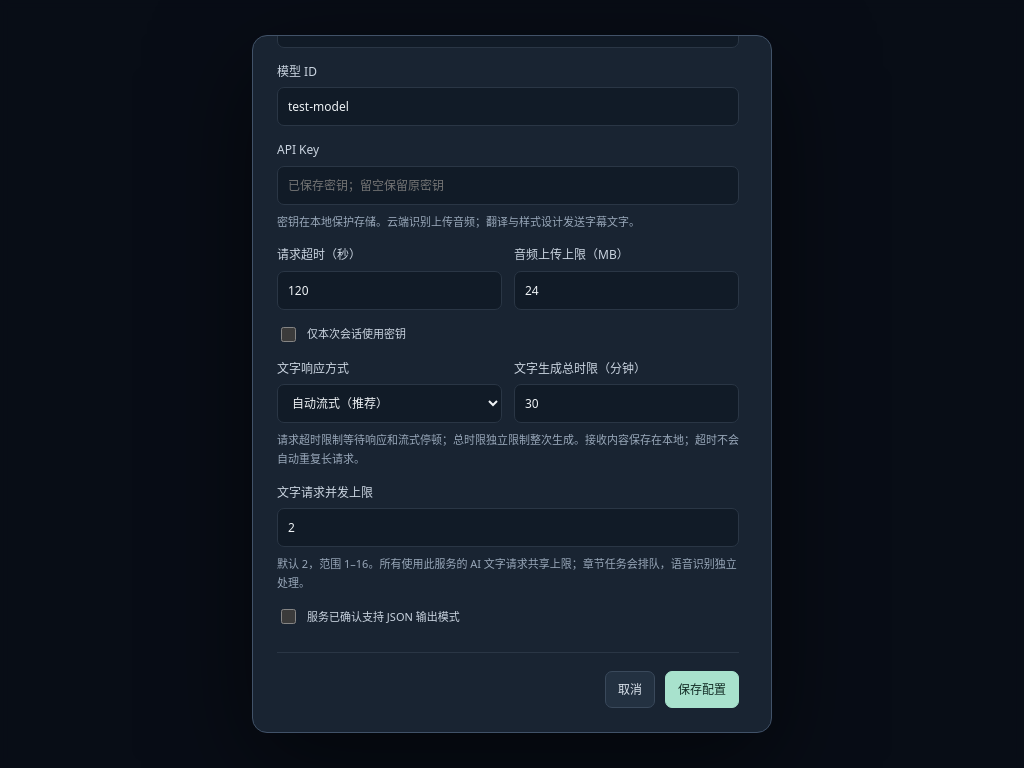
ProfileEditor configuration and credential behavior › rejects invalid service concurrency  before save
(page scrolled)
Clear the number field labelled "文字请求并发上限" at [508, 527], box [277, 508, 739, 547]
(page scrolled)
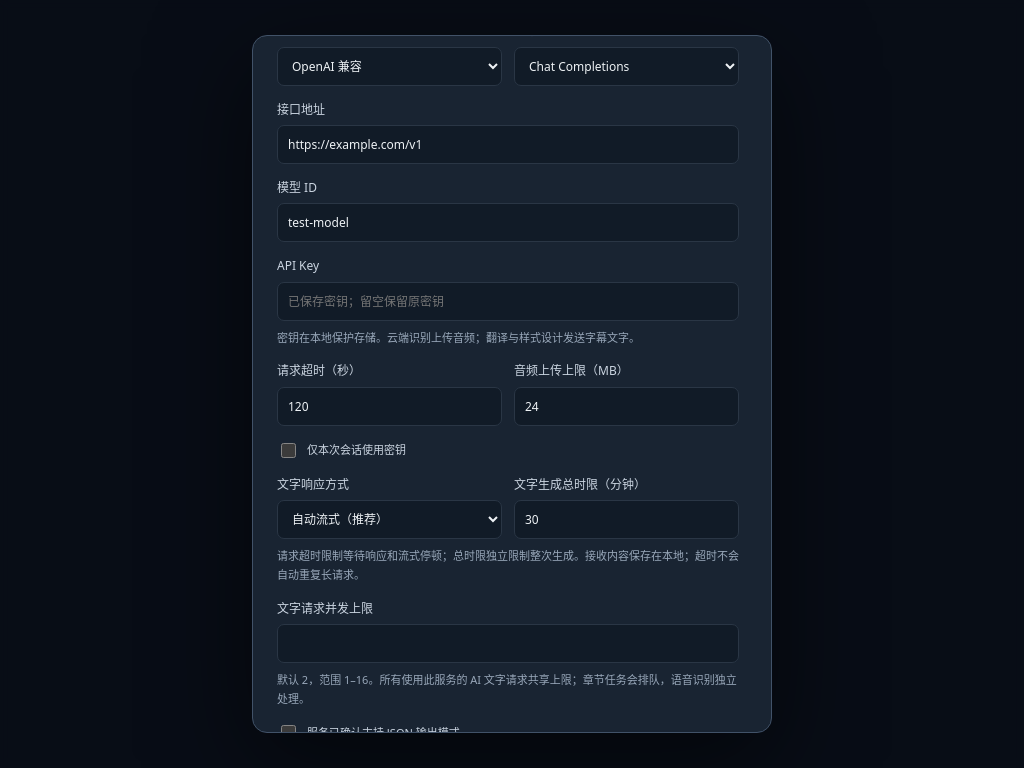
Submit the form named "保存配置"
(page scrolled)
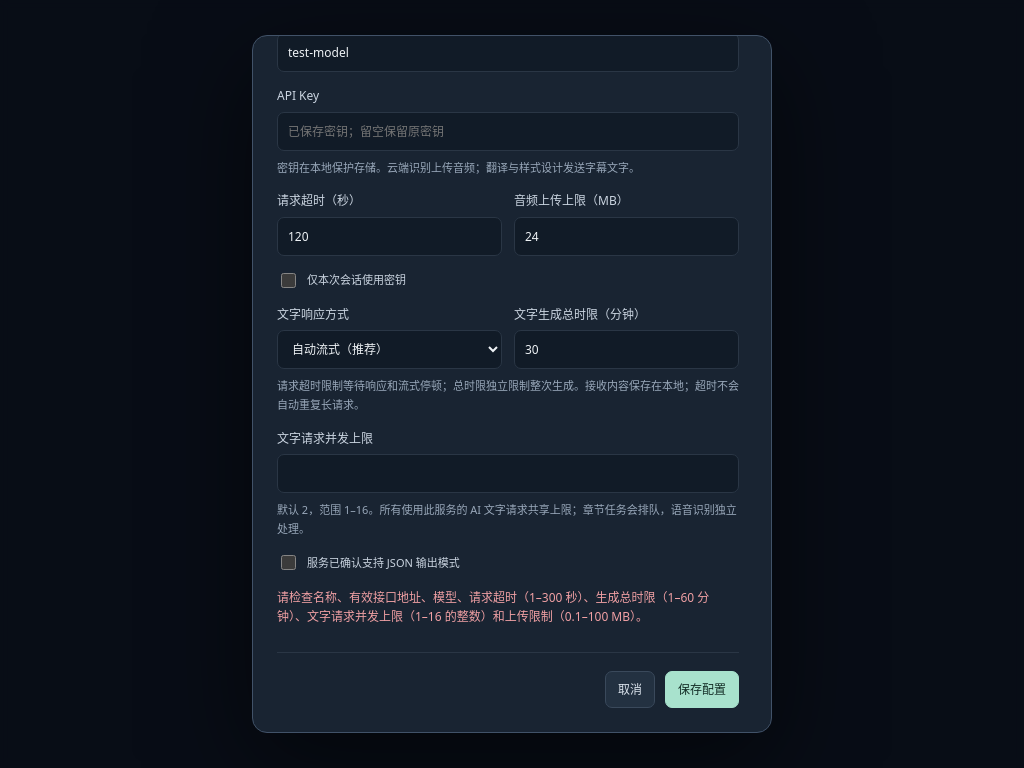
Expected: the message shows "文字请求并发上限", [277, 589, 709, 626]
